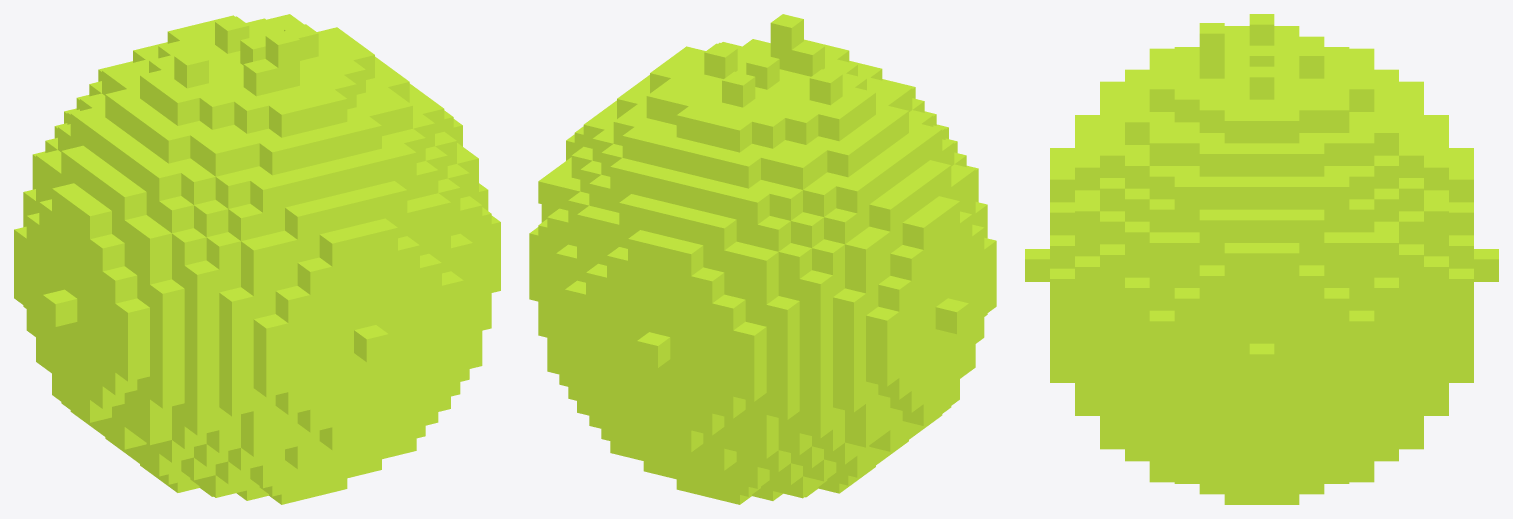
File: 绿色的球.gltf
The picture shows the model from 3 angles, left to right: view 1: azimuth 30°, elevation 25°; view 2: azimuth 150°, elevation 25°; view 3: azimuth 270°, elevation 25°; orthographic projection. The views are drawn at different scales.
Parts seen in each view (by area): view 1: Object; view 2: Object; view 3: Object.
Part boxes in pixels (x1,y1,x2,y2): Object: [14, 14, 500, 504]; Object: [529, 14, 996, 504]; Object: [1025, 14, 1498, 504].
Size of the model in its own units: 19 by 20 by 19.
1 material, 1 textured.
